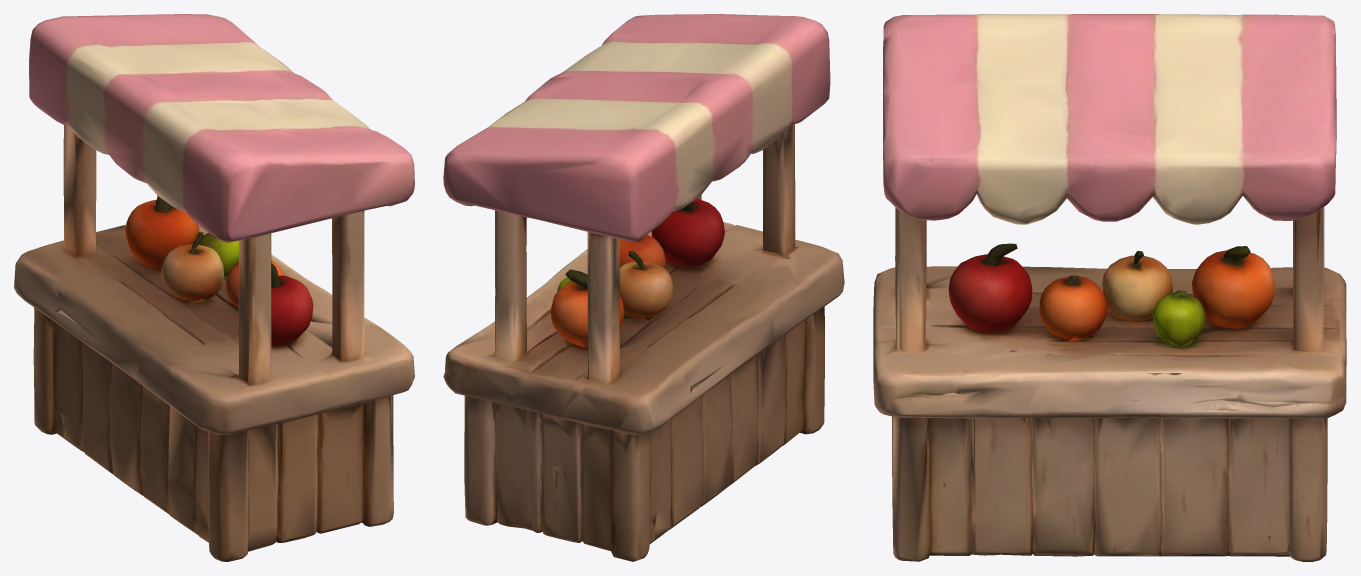
The model's file is stall.glb.
The picture shows the model from 3 angles, left to right: view 1: azimuth 30°, elevation 25°; view 2: azimuth 150°, elevation 25°; view 3: azimuth 270°, elevation 25°; orthographic projection. The views are drawn at different scales.
Parts seen in each view (by area): view 1: tripo_node_27450125-3dfd-4935-9ba0-237f5066ffd0; view 2: tripo_node_27450125-3dfd-4935-9ba0-237f5066ffd0; view 3: tripo_node_27450125-3dfd-4935-9ba0-237f5066ffd0.
Part boxes in pixels (<box>): tripo_node_27450125-3dfd-4935-9ba0-237f5066ffd0: <box>14,14,414,561</box>; tripo_node_27450125-3dfd-4935-9ba0-237f5066ffd0: <box>443,14,844,561</box>; tripo_node_27450125-3dfd-4935-9ba0-237f5066ffd0: <box>873,14,1346,561</box>.
Size of the model in its own units: 0.5515 by 0.9997 by 0.9332.
1 material, 1 textured.
